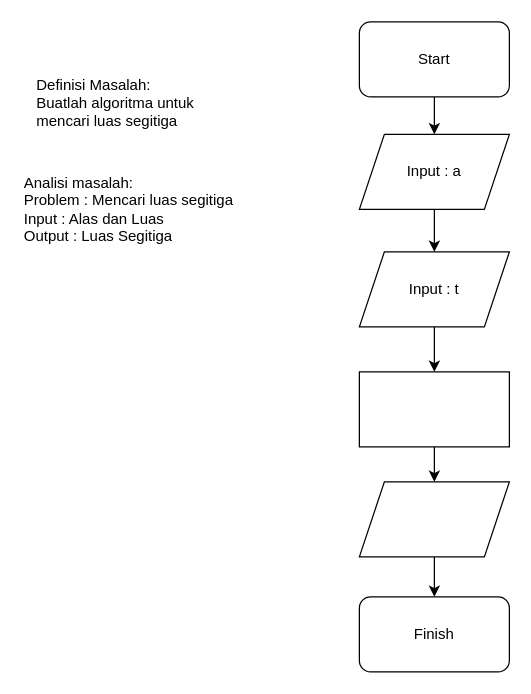
This 531x694 diagram has some shape labels left out. The centre of each missing label's shape, as x and y in pixels:
"L = (a*t)/2" belongs at point 433,409.
"Print : L" belongs at point 433,519.
